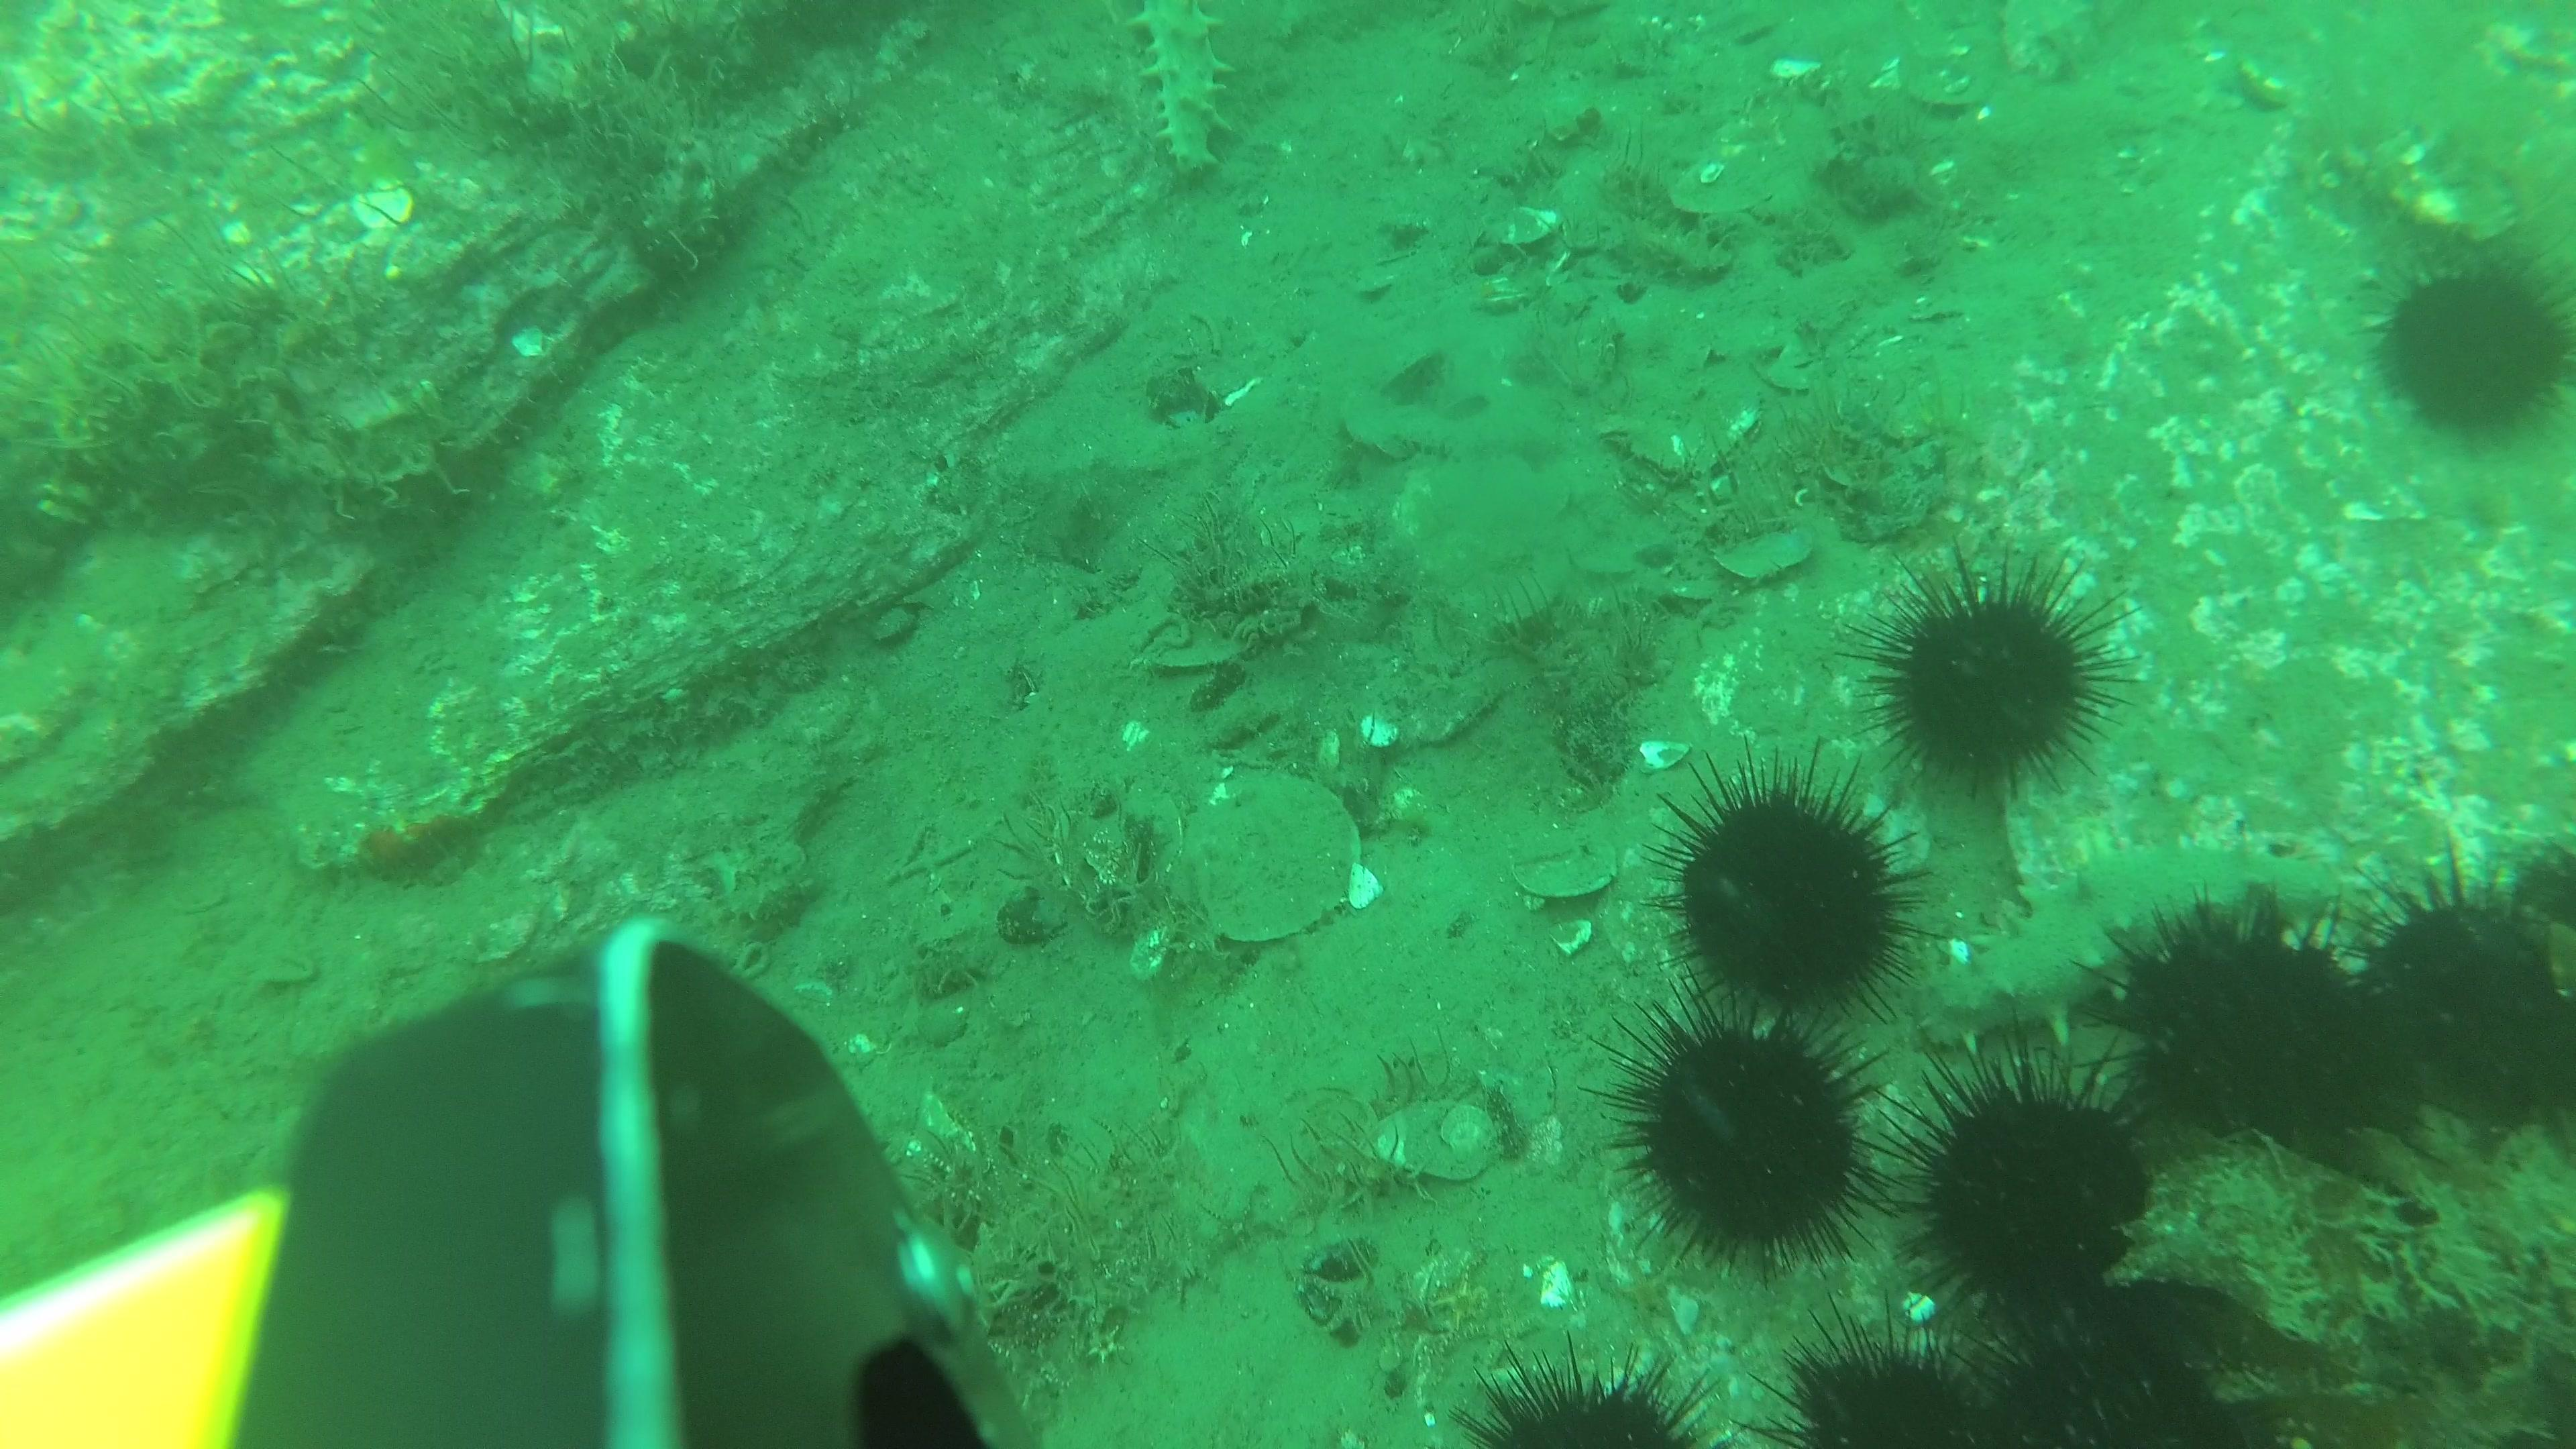echinus: (1589, 975, 1898, 1281), (1893, 1028, 2181, 1338), (1836, 534, 2141, 809), (2093, 897, 2383, 1182), (1654, 741, 1932, 1037), (2341, 847, 2562, 1157), (1967, 1297, 2268, 1449), (2373, 234, 2576, 455), (1746, 1297, 1982, 1449), (1447, 1346, 1716, 1449)
holothurian: (1905, 842, 2341, 1053), (1125, 0, 1237, 170)
scallop: (1194, 777, 1359, 941), (1373, 1097, 1502, 1185), (1511, 835, 1615, 899)
